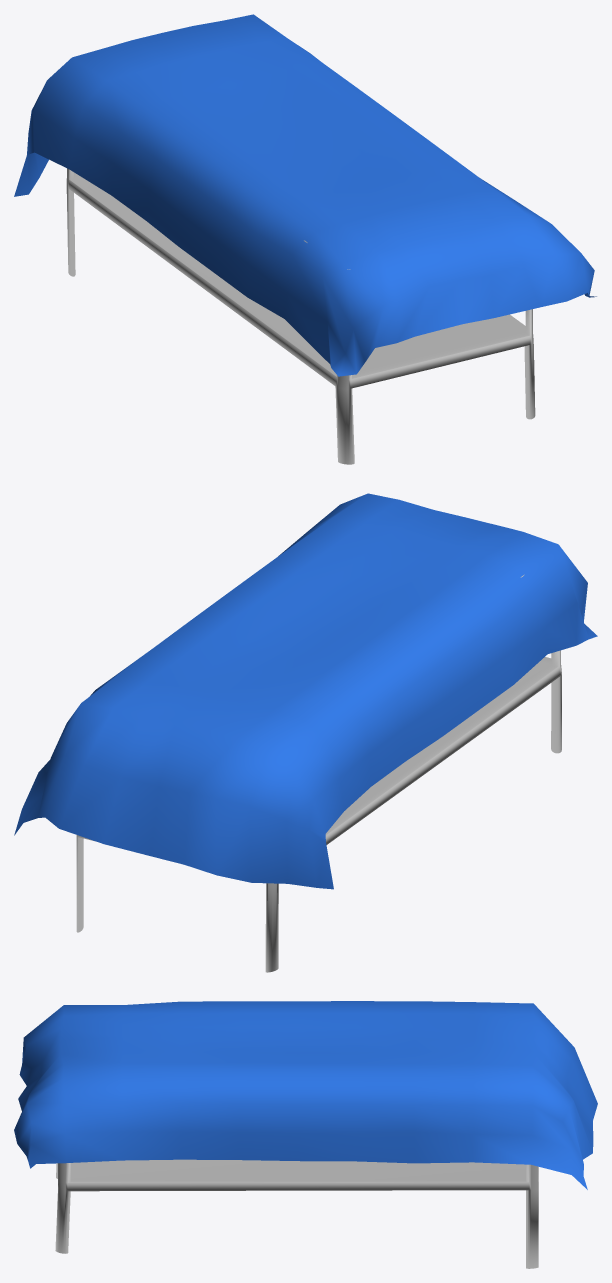
The model's file is tablechir.fbx.
3 views of the same model, one above another, from view 1: azimuth 30°, elevation 25°; view 2: azimuth 150°, elevation 25°; view 3: azimuth 270°, elevation 25° (orthographic). The views are drawn at different scales.
Visible parts, largest first — view 1: Plane, Cube; view 2: Plane, Cube; view 3: Plane, Cube.
Part boxes in pixels (bbox=[...]): Plane: bbox=[14, 14, 596, 376]; Cube: bbox=[66, 168, 535, 464]; Plane: bbox=[14, 493, 597, 889]; Cube: bbox=[76, 545, 561, 972]; Plane: bbox=[14, 1001, 597, 1189]; Cube: bbox=[55, 1159, 538, 1268].
Bounding box in the file's own units: 274 × 201 × 555.
